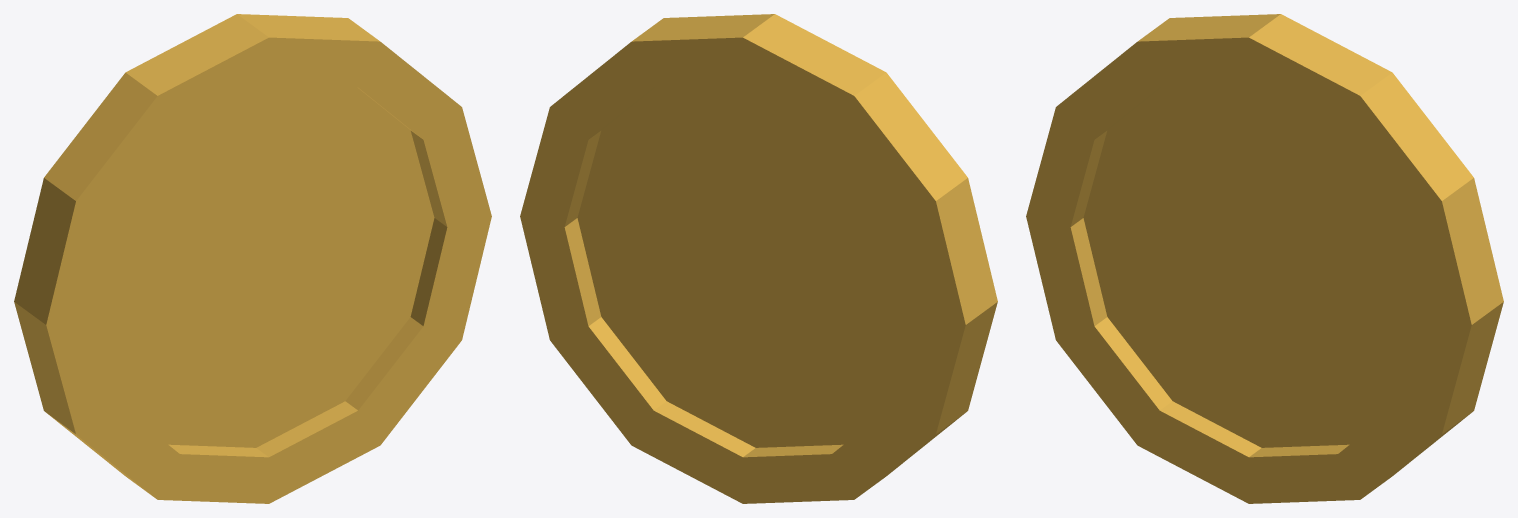
Rendered from coin.fbx.
3 renders of one model, left to right at view 1: azimuth 30°, elevation 25°; view 2: azimuth 150°, elevation 25°; view 3: azimuth 330°, elevation 25°, orthographic.
Visible parts, largest first — view 1: Coin; view 2: Coin; view 3: Coin.
Boxes of the visible parts, x1,y1,x2,y2 form: Coin: [14, 14, 491, 503]; Coin: [520, 14, 997, 503]; Coin: [1026, 14, 1503, 503].
Bounding box in the file's own units: 200 × 200 × 25.
